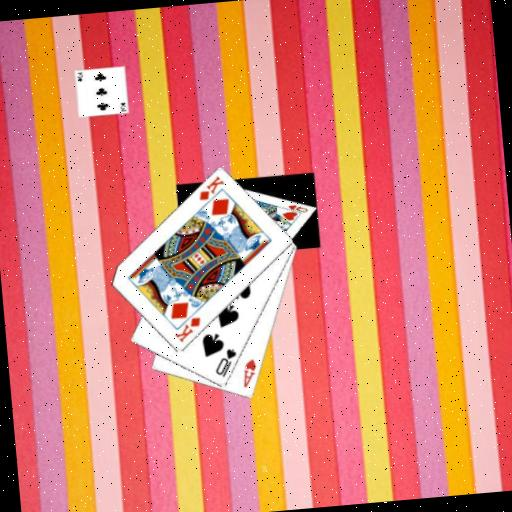10S: (210, 346, 240, 380)
AH: (239, 356, 260, 389)
KD: (170, 314, 204, 345), (194, 173, 227, 203)
